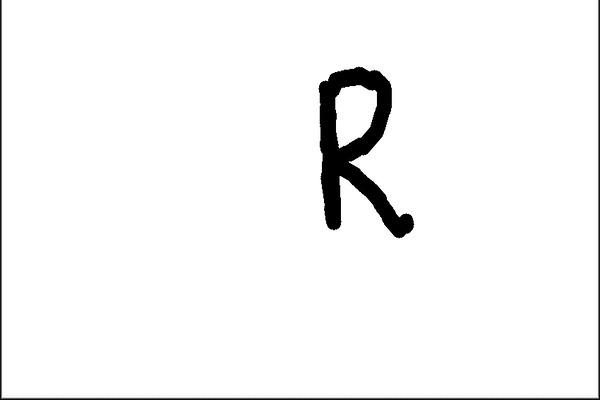R: (305, 61, 430, 241)
